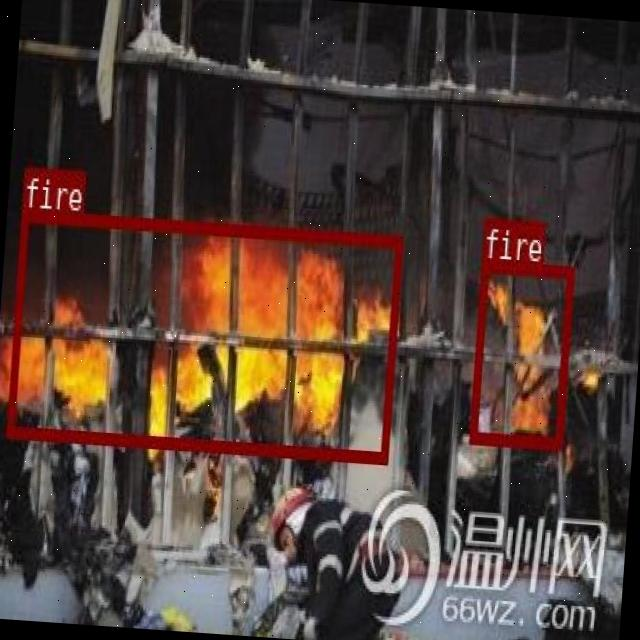fire: (5, 209, 401, 462), (468, 260, 572, 446)
